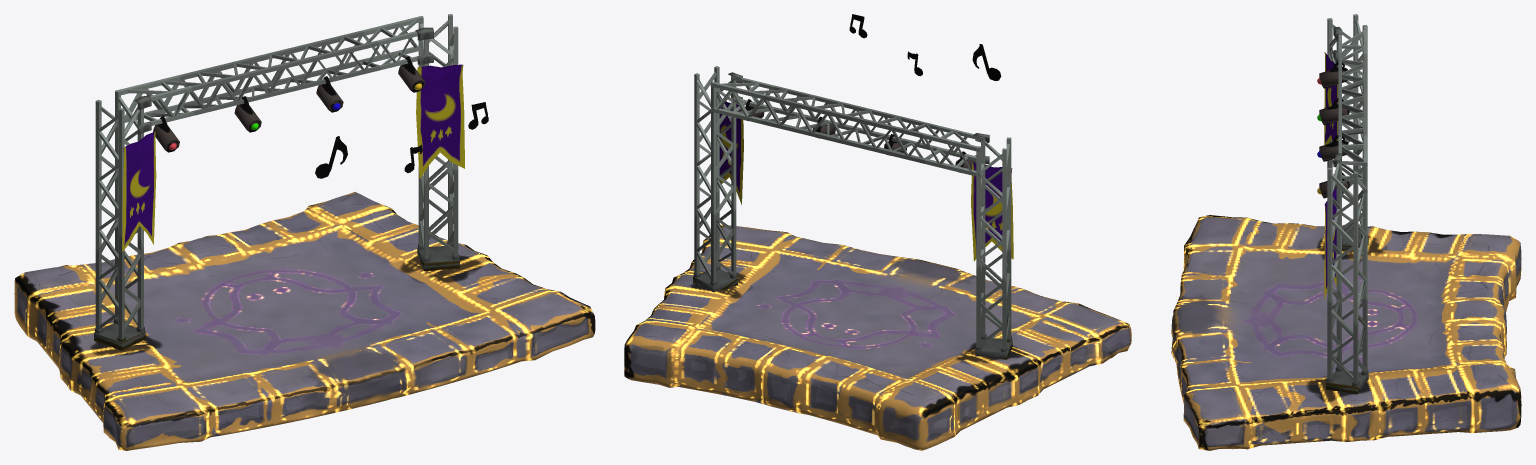
File: Empty_Group_Main_MusicStage.fbx
3 renders of one model, left to right at view 1: azimuth 30°, elevation 25°; view 2: azimuth 150°, elevation 25°; view 3: azimuth 270°, elevation 25°, orthographic. The views are drawn at different scales.
Parts seen in each view (by area): view 1: LowPoly_Sage_base, Background_Stage, Flags_Stage, Lights_Stage; view 2: LowPoly_Sage_base, Background_Stage, Flags_Stage, Lights_Stage; view 3: LowPoly_Sage_base, Background_Stage, Lights_Stage, Flags_Stage.
Boxes of the visible parts, bbox=[...] form: LowPoly_Sage_base: bbox=[14, 192, 595, 450]; Background_Stage: bbox=[94, 14, 459, 350]; Flags_Stage: bbox=[122, 64, 464, 251]; Lights_Stage: bbox=[153, 56, 425, 152]; LowPoly_Sage_base: bbox=[624, 224, 1131, 450]; Background_Stage: bbox=[693, 66, 1012, 359]; Flags_Stage: bbox=[719, 101, 1013, 261]; Lights_Stage: bbox=[741, 99, 976, 172]; LowPoly_Sage_base: bbox=[1171, 215, 1521, 450]; Background_Stage: bbox=[1326, 14, 1368, 394]; Lights_Stage: bbox=[1317, 61, 1349, 198]; Flags_Stage: bbox=[1324, 52, 1337, 299].
Bounding box in the file's own units: 2.58 × 1.55 × 1.85.
Materials: 2 (2 with a texture image).
